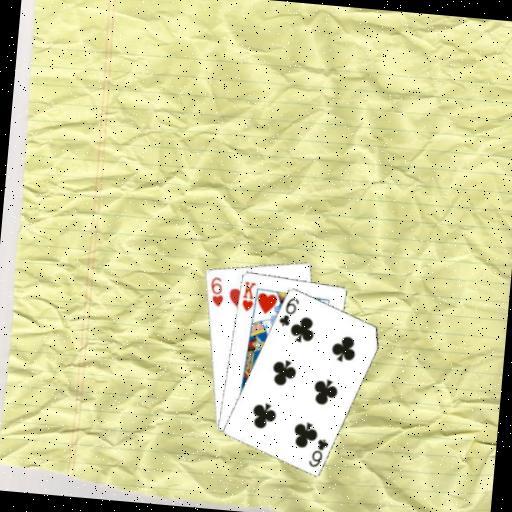6C: (276, 293, 302, 328), (305, 434, 330, 469)
6H: (206, 273, 227, 308)
KH: (239, 278, 258, 313)
